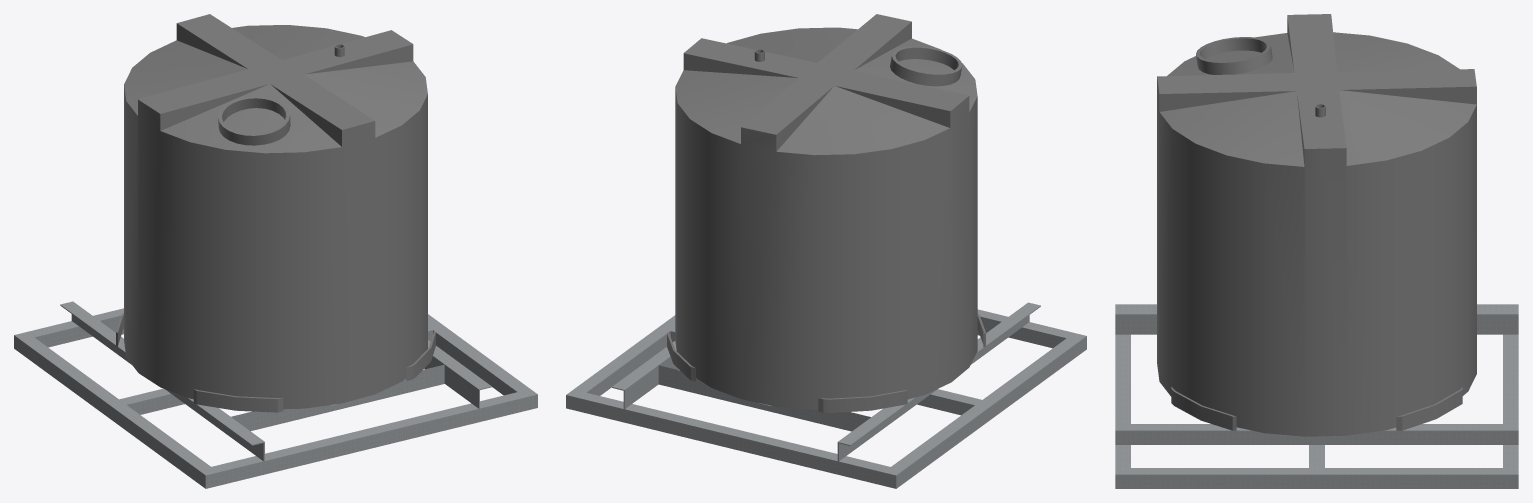
File: stage1_1.glb
3 renders of one model, left to right at view 1: azimuth 30°, elevation 25°; view 2: azimuth 150°, elevation 25°; view 3: azimuth 270°, elevation 25°, orthographic. The views are drawn at different scales.
Visible parts, largest first — view 1: aversol, object 2, object 3; view 2: aversol, object 2, object 3; view 3: aversol, object 2, object 3.
Part boxes in pixels (<box>): aversol: <box>124,14,427,409</box>; object 2: <box>14,301,537,488</box>; object 3: <box>116,313,435,412</box>; aversol: <box>675,14,977,409</box>; object 2: <box>566,302,1086,488</box>; object 3: <box>667,313,985,412</box>; aversol: <box>1157,14,1476,436</box>; object 2: <box>1115,304,1518,488</box>; object 3: <box>1171,387,1462,430</box>.
Bounding box in the file's own units: 1.8 × 1.63 × 1.8.
2 materials, 1 textured.
